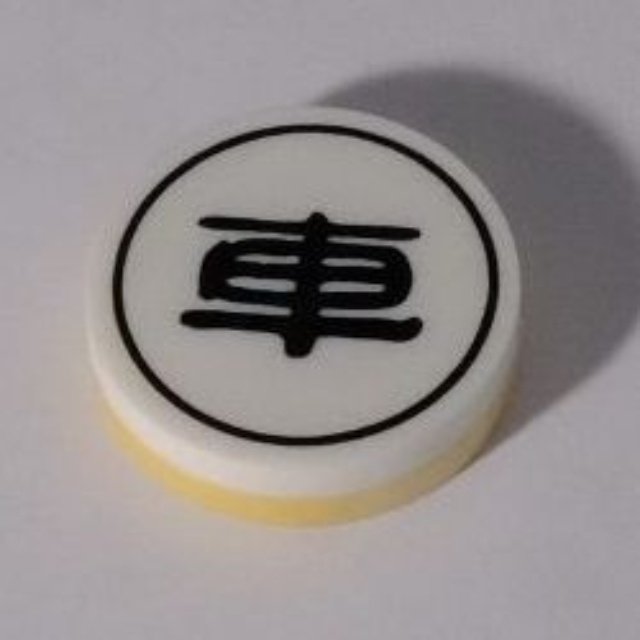black_xe: (84, 103, 526, 529)
